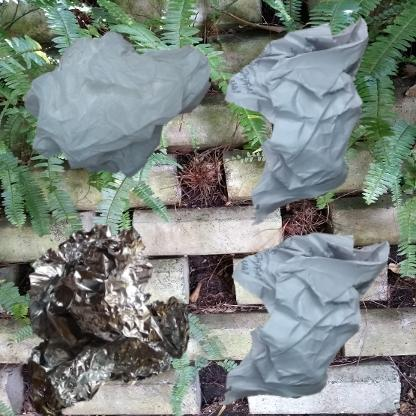aluminio: (10, 213, 204, 416)
bolsa: (10, 10, 246, 209)
papel: (213, 10, 406, 236), (213, 213, 397, 416)
